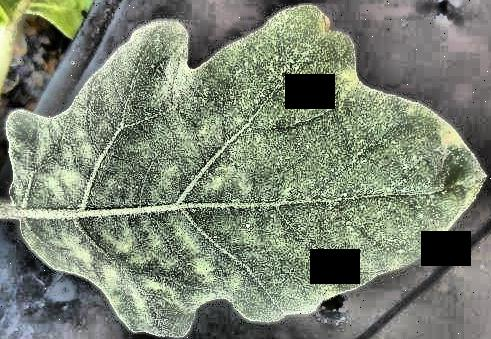HEALTHY: (1, 1, 491, 339)
